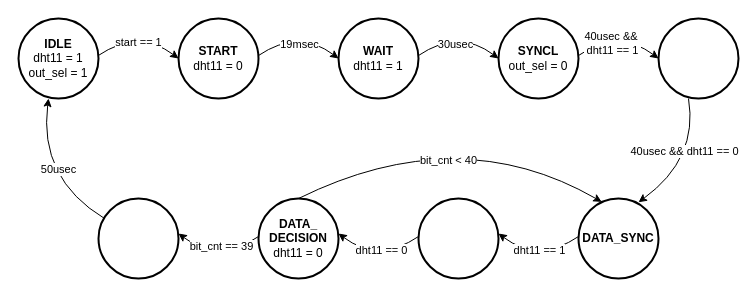
The diagram is 756 pixels wide and 296 high, and some of its shapes have lost their labels. The centre of each missing label's shape, as x and y in pixels:
"DATA_COUNT" goes at point 458,238.
"STOP" goes at point 138,238.
"SYNCH" goes at point 698,58.
